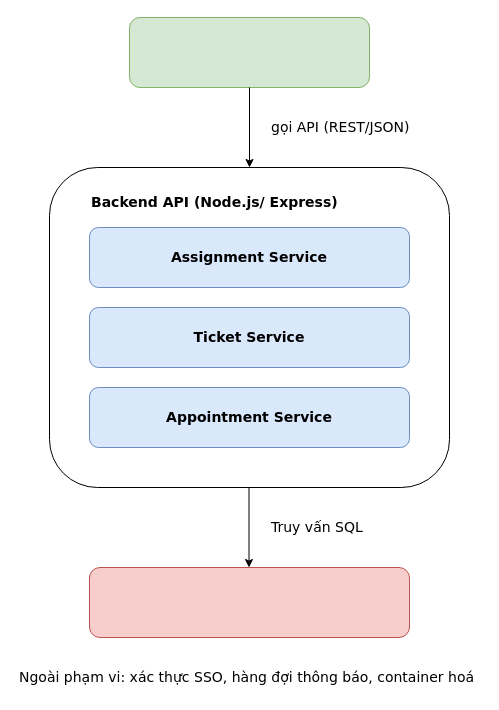
Some shapes in this 499 by 710 pixel diagram are drawn without their labels. Each missing label, with the centre of its shape:
Frontend (Vue.js 3) HTML / CSS / JavaScript: the point at 249,52
PostgreSQL ticket, technician, appointment,...: the point at 249,602
